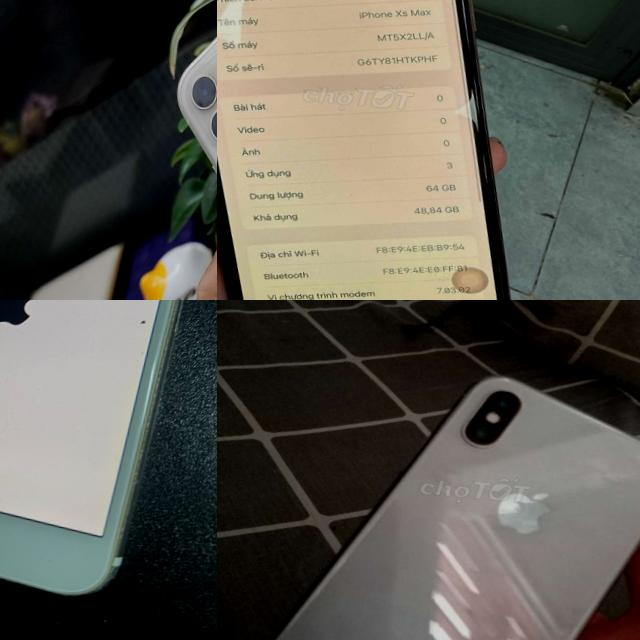gen_11: (140, 0, 217, 300)
gen_7_8: (0, 300, 217, 607)
gen_x_xs: (217, 0, 550, 300), (271, 378, 640, 640)
scratch: (170, 300, 186, 332), (114, 526, 129, 550), (136, 448, 148, 467), (109, 565, 118, 583), (130, 474, 140, 488), (142, 418, 152, 432)
screen_defect: (139, 318, 148, 326), (138, 348, 144, 354)
